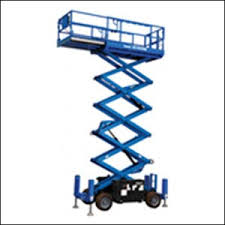Scissor Lift: (55, 9, 170, 216)
